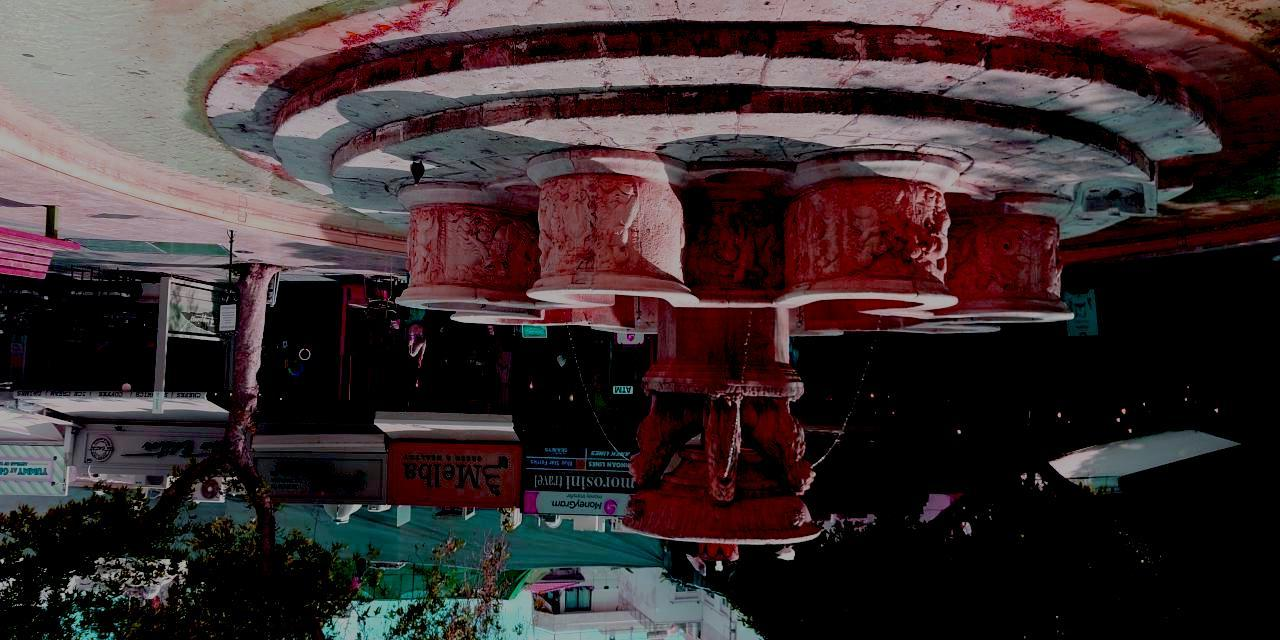Liontaria: (398, 142, 1080, 577)
